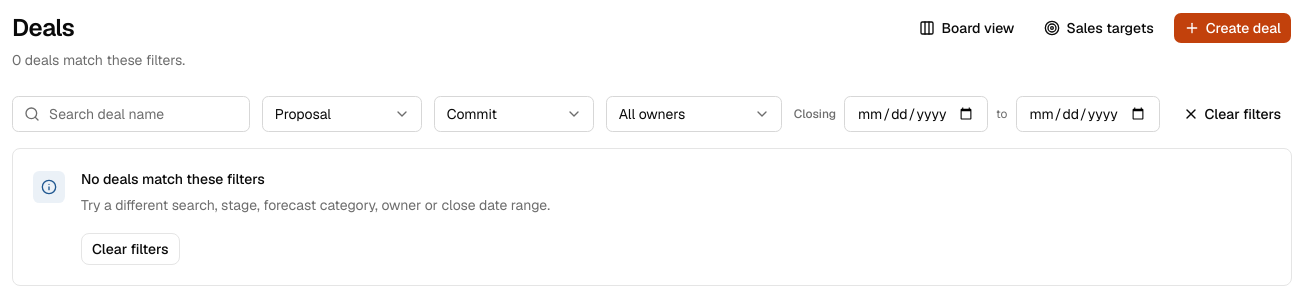
Test: Deals page › clears the category with the other filters
The image size is (1304, 303).
expect the heading "No deals match these filters" is shown: met, box x1=81 y1=170 x2=265 y2=188
Click the button "Clear filters" in the row of "to" at (1232, 114), box x1=1172 y1=98 x2=1292 y2=130
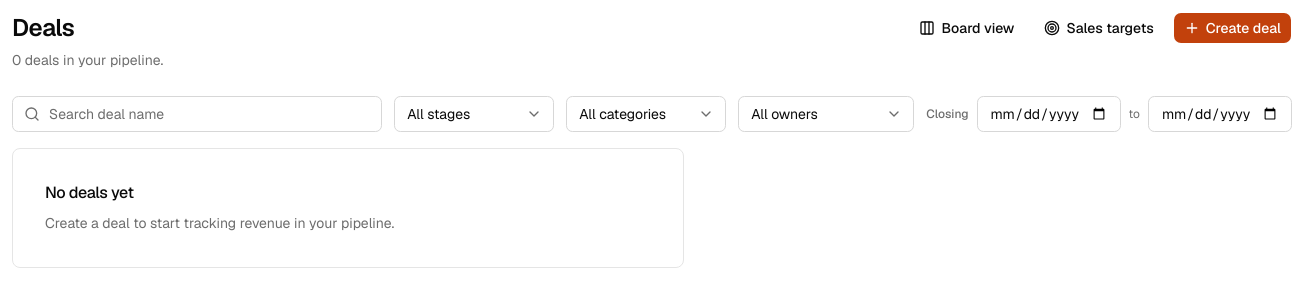
expect the 2nd dropdown named "Forecast category" shows "All categories": met, box x1=566 y1=96 x2=726 y2=132
